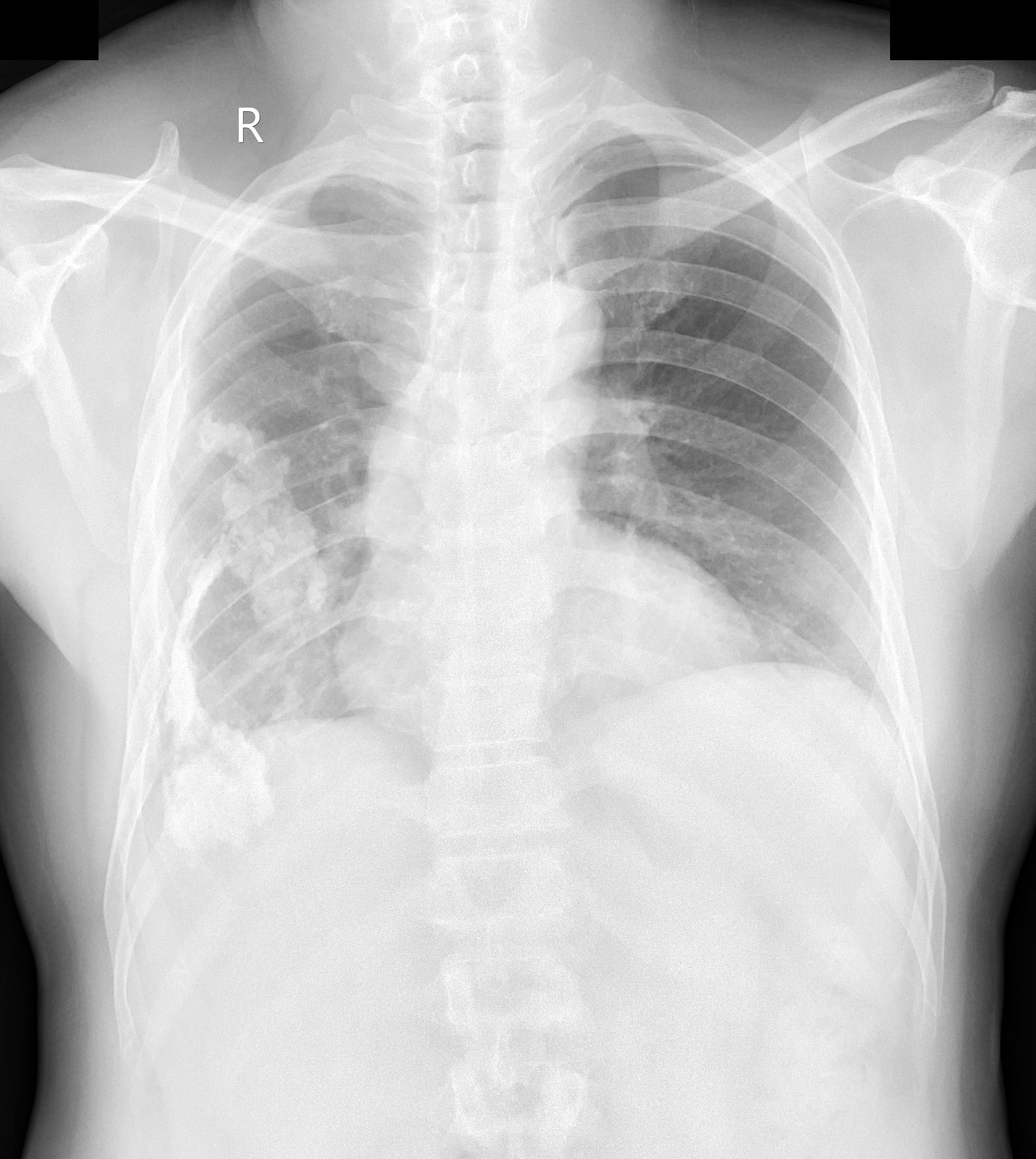Aortic enlargement: (360, 278, 607, 548)
Cardiomegaly: (327, 622, 772, 718)
Pleural thickening: (149, 405, 334, 867)
